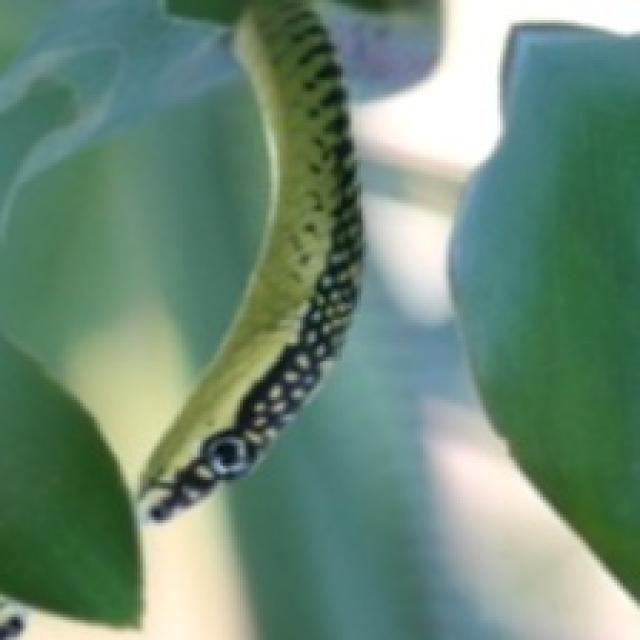paradise tree snake: (0, 0, 360, 517), (140, 0, 360, 517), (0, 337, 137, 623)
